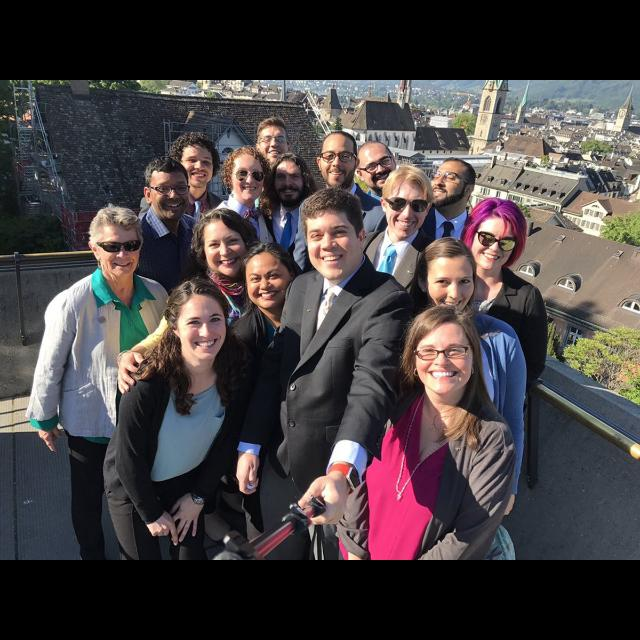head: (302, 188, 368, 280), (164, 277, 228, 363), (416, 309, 474, 395), (417, 236, 477, 318), (466, 198, 524, 272), (88, 210, 146, 280), (381, 166, 434, 240), (242, 242, 296, 310), (202, 211, 252, 279), (144, 159, 190, 221), (316, 131, 362, 191), (427, 158, 477, 210), (177, 133, 215, 190), (230, 150, 266, 202), (274, 153, 310, 203)
person: (113, 196, 293, 558), (318, 163, 444, 522), (284, 125, 402, 438), (104, 154, 210, 472), (133, 130, 241, 422), (389, 156, 498, 402), (196, 140, 282, 422), (251, 152, 327, 418)
